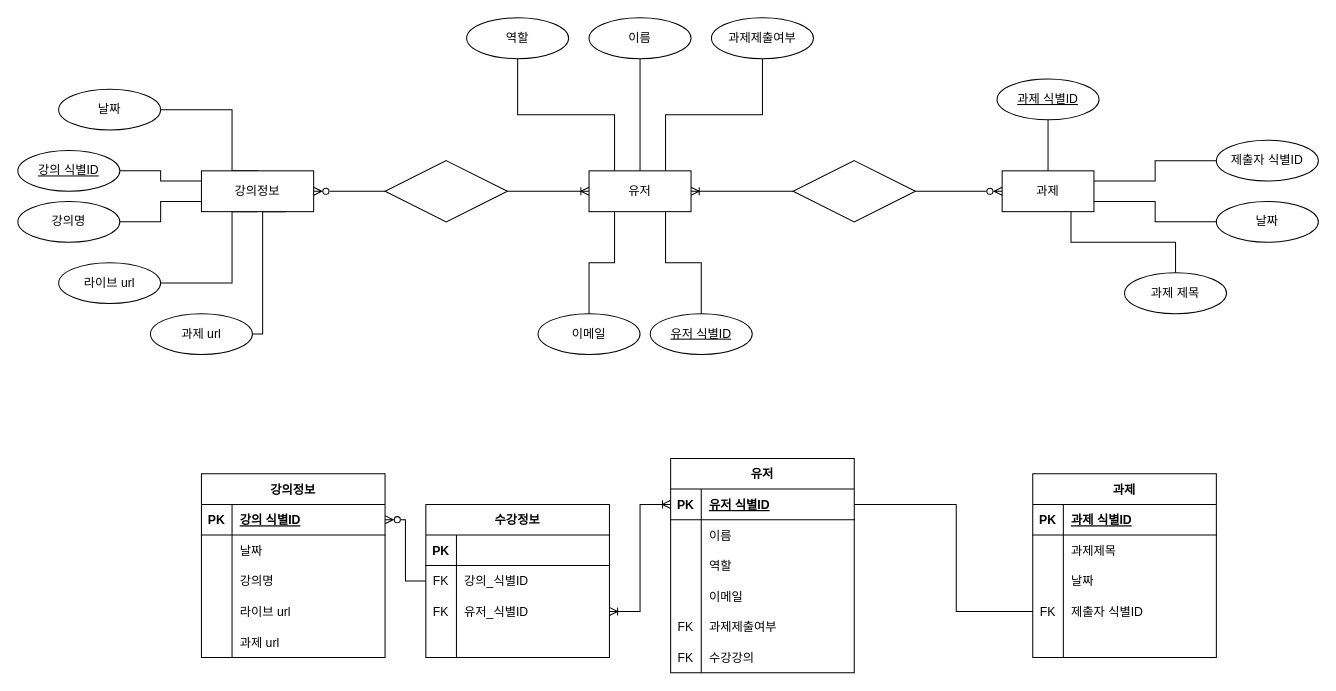
Some shapes in this 1336 by 691 pixel diagram are drawn without their labels. Here are the shapes that lost their labels. From the top down, the centre of each, then its label:
pixel 445 191: 수강
pixel 853 191: 제출
